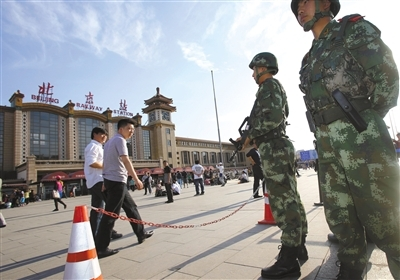10+: (1, 1, 400, 280)
